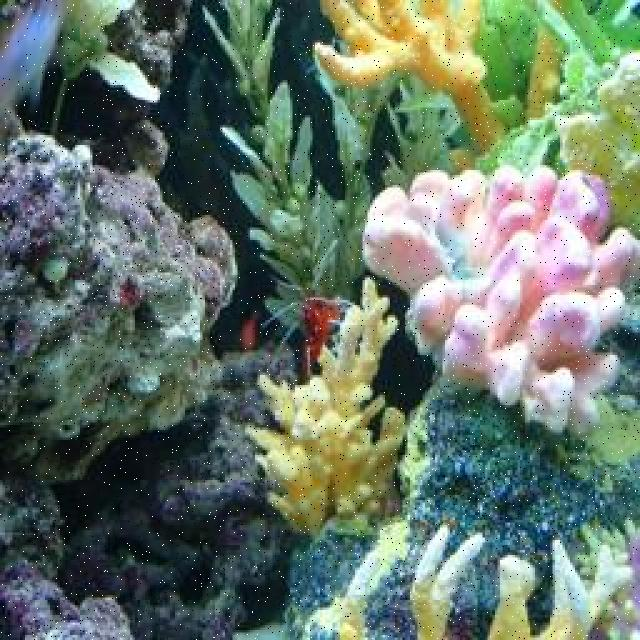aquatic plants: (203, 0, 342, 337)
reefs: (360, 163, 638, 440), (244, 276, 407, 540), (315, 0, 505, 152)
